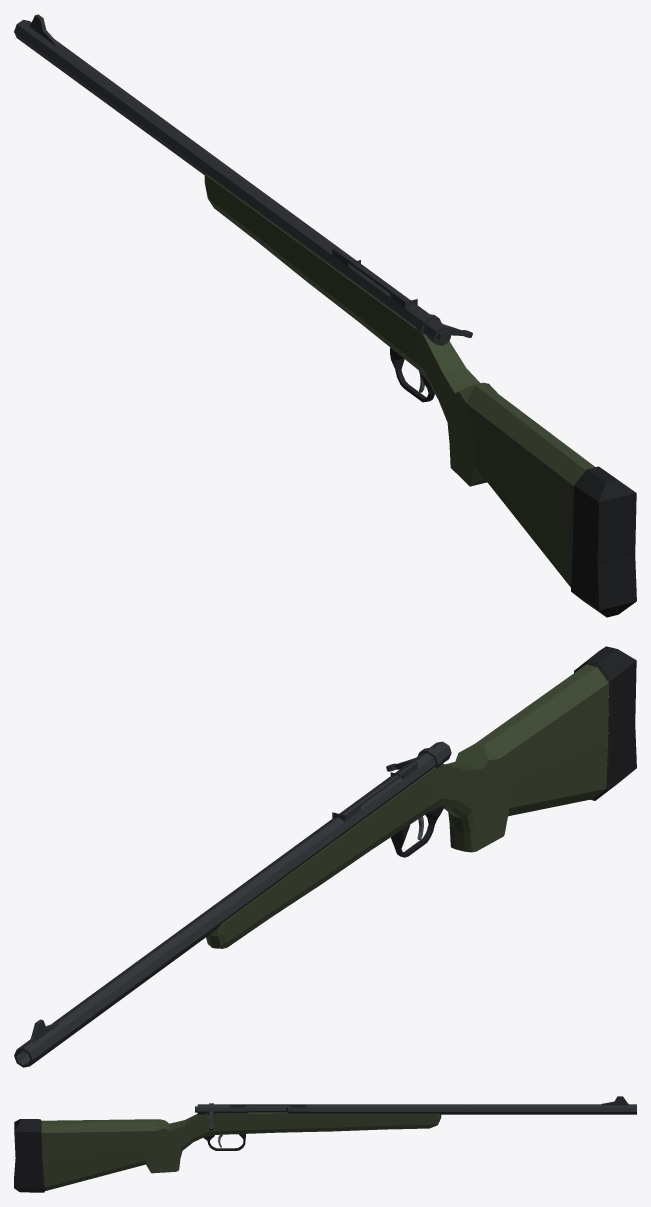
The picture shows the model from 3 angles, top to bottom: view 1: azimuth 30°, elevation 25°; view 2: azimuth 150°, elevation 25°; view 3: azimuth 270°, elevation 25°; orthographic projection. The views are drawn at different scales.
Parts seen in each view (by area): view 1: body_boltGreen_1, body_boltDarkMetal_2, body_boltBlack_0; view 2: body_boltGreen_1, body_boltDarkMetal_2, body_boltBlack_0; view 3: body_boltGreen_1, body_boltDarkMetal_2, body_boltBlack_0.
Part boxes in pixels (left/top/right/bottom): body_boltGreen_1: left=204, top=174, right=595, bottom=587; body_boltDarkMetal_2: left=14, top=14, right=451, bottom=345; body_boltBlack_0: left=390, top=347, right=636, bottom=617; body_boltGreen_1: left=206, top=664, right=608, bottom=948; body_boltDarkMetal_2: left=14, top=741, right=451, bottom=1067; body_boltBlack_0: left=391, top=646, right=636, bottom=857; body_boltGreen_1: left=41, top=1112, right=441, bottom=1190; body_boltDarkMetal_2: left=195, top=1096, right=636, bottom=1114; body_boltBlack_0: left=14, top=1119, right=245, bottom=1192.
Bounding box in the file's own units: 0.0688 × 0.1921 × 1.15.
